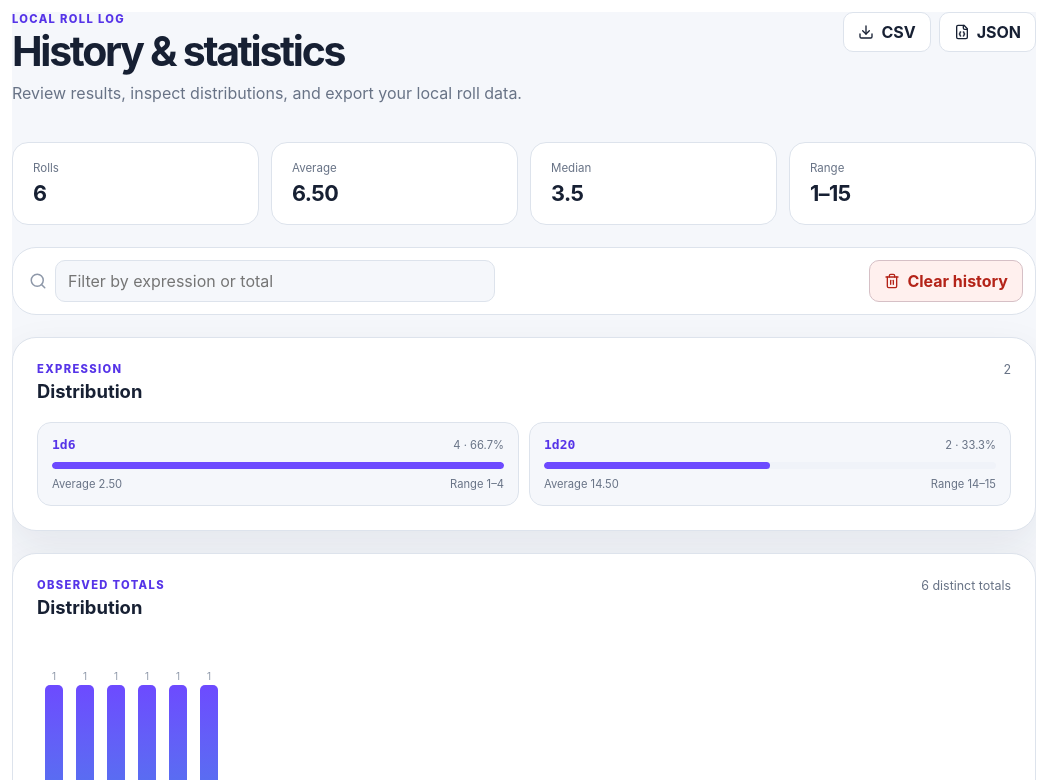
Test: HistoryPanel performance behavior › summarizes expression usage and follows the active filter
Expected: the element "Distribution" is shown, [12,337,1036,531]
Expected: the text "1d6" is shown, [52,437,76,452]
Type "1d20" into the field named "Filter roll history".
click(275, 281); type("1d20")  # box [55,260,495,302]
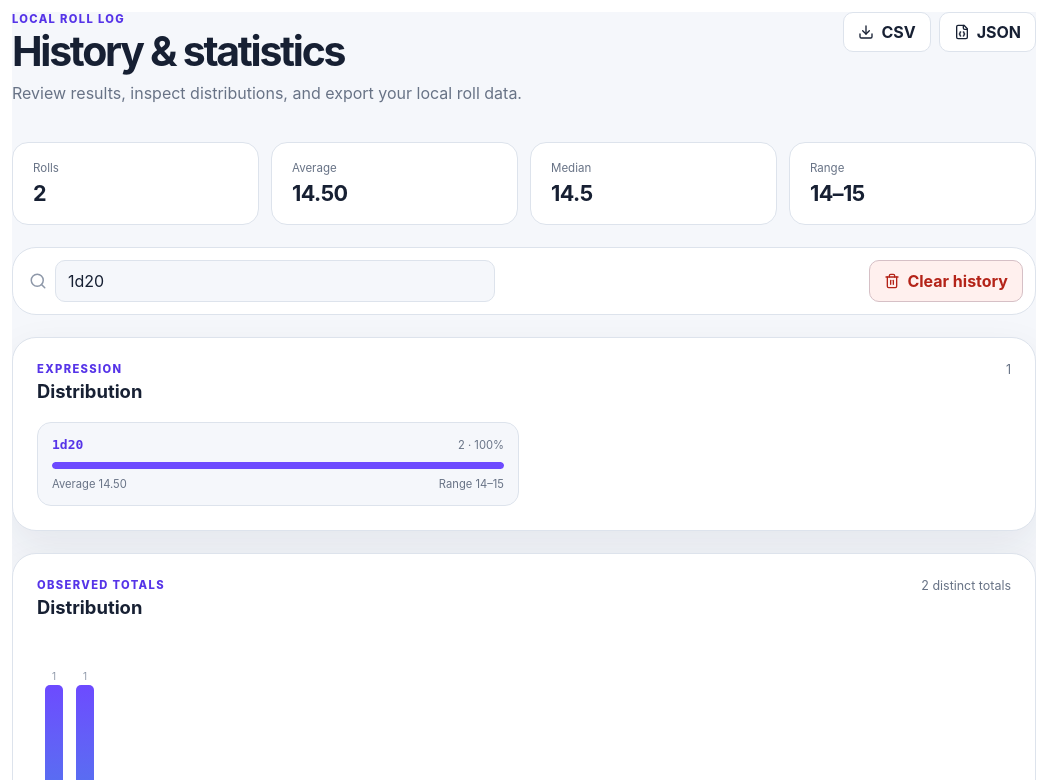
Expected: the text "1d6" is gone
Expected: the text "2 · 100%" is shown, [458,438,504,452]
